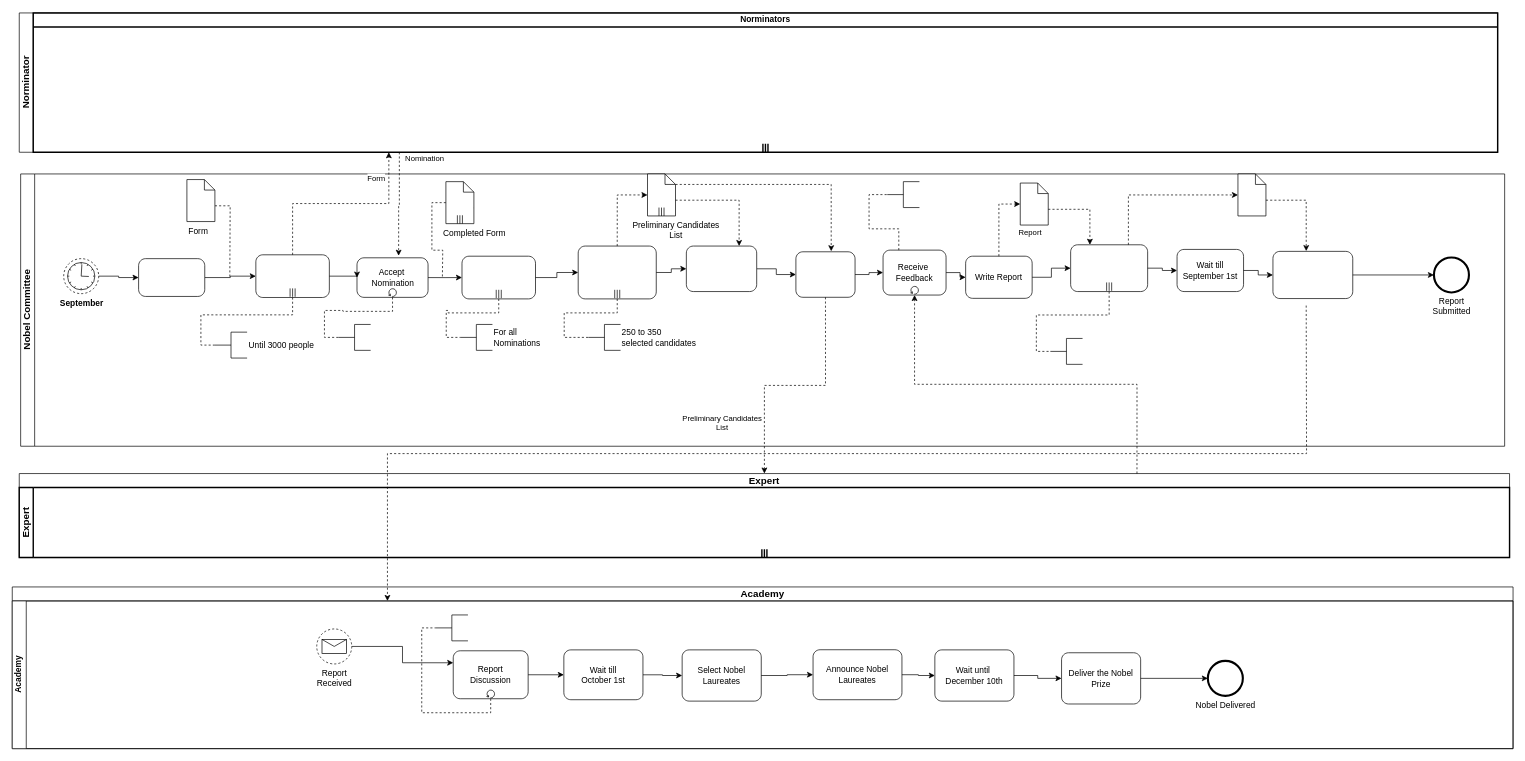
Some shapes in this 1525 by 761 pixel diagram are drawn without their labels. The centre of each missing label's shape, as x and y in pixels:
"Consult with Expert" belongs at (x=825, y=274).
"For all Committee Members" belongs at (x=1066, y=351).
"Preliminary selected candidates" belongs at (x=617, y=272).
"Prepare Nomination form" belongs at (x=171, y=277).
"Screen Nomination" belongs at (x=498, y=277).
"Send Nomination form" belongs at (x=292, y=276).
"Sign report with Recommendations" belongs at (x=1109, y=268).
"Signed Report with Recommendations" belongs at (x=1251, y=194).
"Submit Report Recommendations" belongs at (x=1312, y=275).
"till 31st January" belongs at (x=354, y=337).
"Two times" belongs at (x=451, y=627).
"Until June 1st" belongs at (x=903, y=194).
"Wait till March 1st" belongs at (x=721, y=268).
